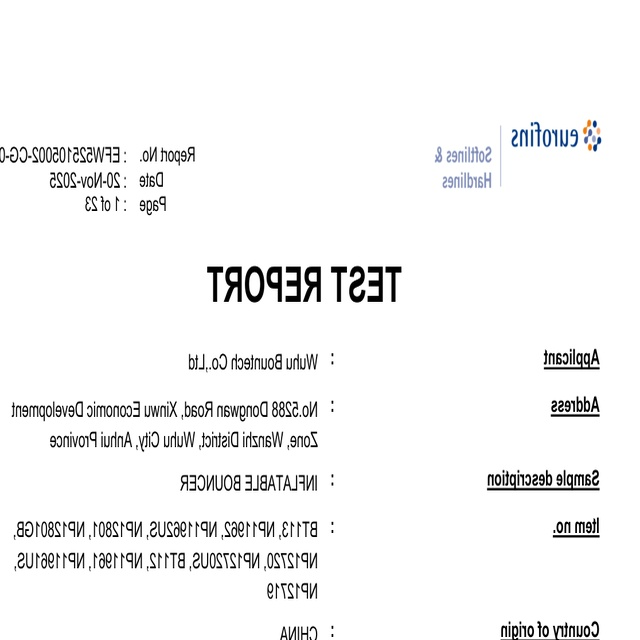eurofins: (507, 116, 604, 158)
